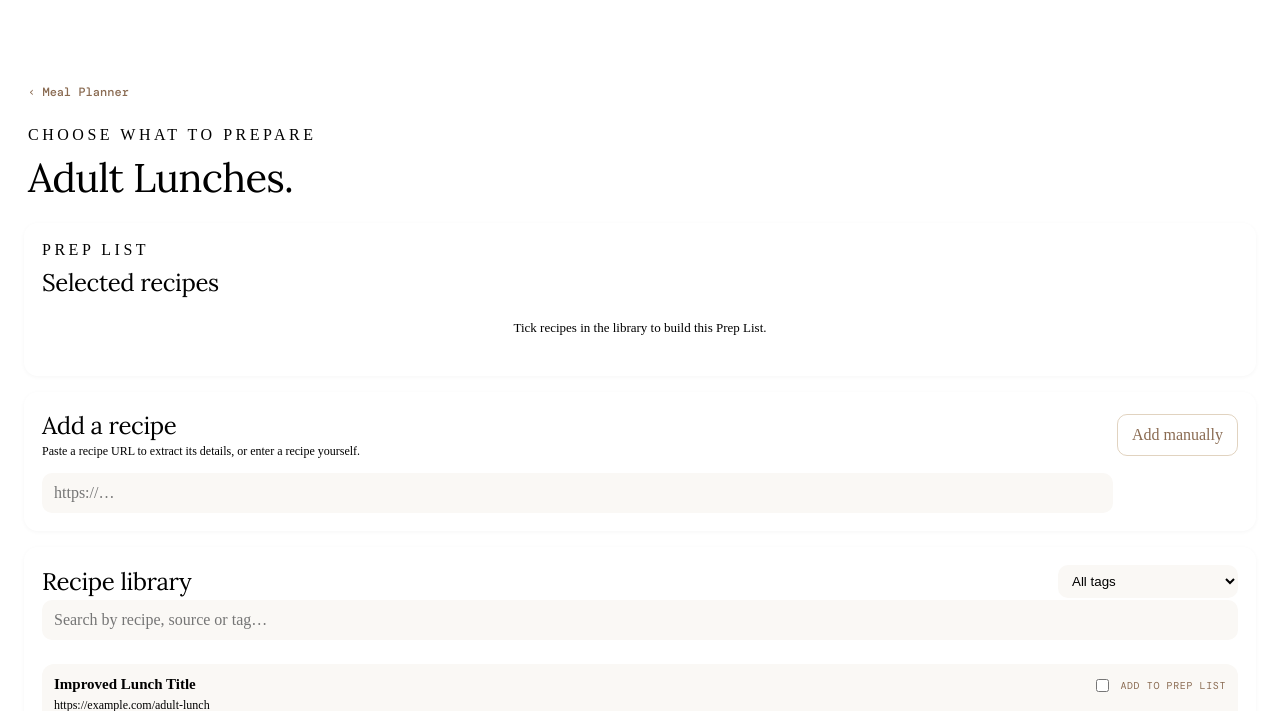
Test: Adult Lunches can add and remove a recipe from the Prep List
The width and height of the screenshot is (1280, 711).
Click the checkbox labelled "Add to Prep List": point(1103, 686) [1096,679,1109,692]
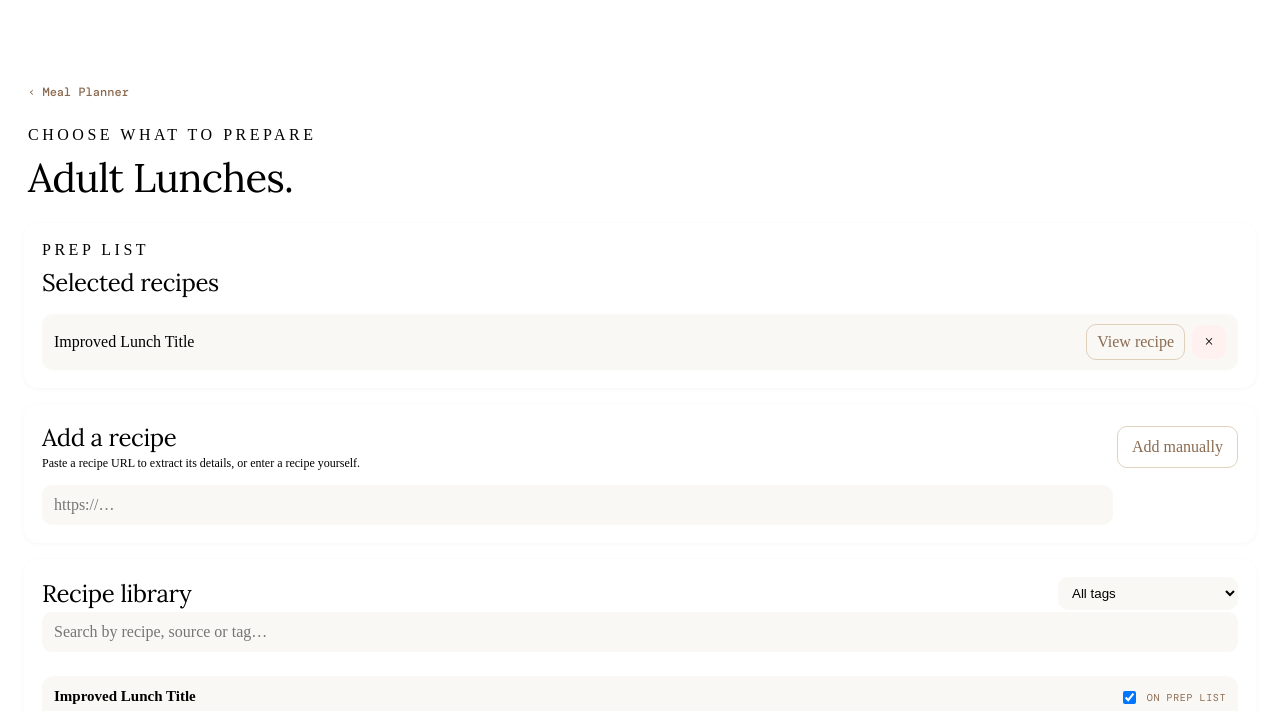
Now the element that starts with "Prep List" shows "Improved Lunch Title", box [54,333,194,350]
